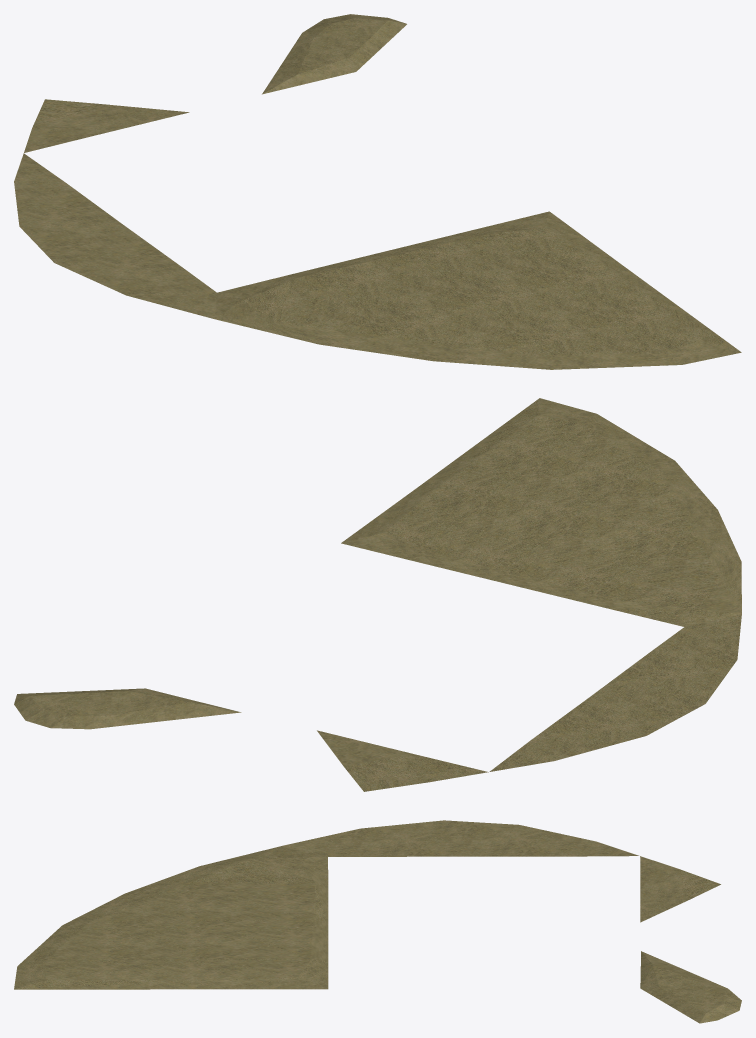
File: cock_sfn08.obj
3 renders of one model, top to bottom at view 1: azimuth 30°, elevation 25°; view 2: azimuth 150°, elevation 25°; view 3: azimuth 270°, elevation 25°, orthographic. The views are drawn at different scales.
Visible parts, largest first — view 1: cock_sfn08; view 2: cock_sfn08; view 3: cock_sfn08.
Part boxes in pixels (box(x1,y1,x2,y2)): cock_sfn08: box(14, 14, 741, 369); cock_sfn08: box(14, 398, 741, 791); cock_sfn08: box(14, 820, 741, 1023).
Bounding box in the file's own units: 49.27 × 0.4607 × 74.64.
1 material, 1 textured.
